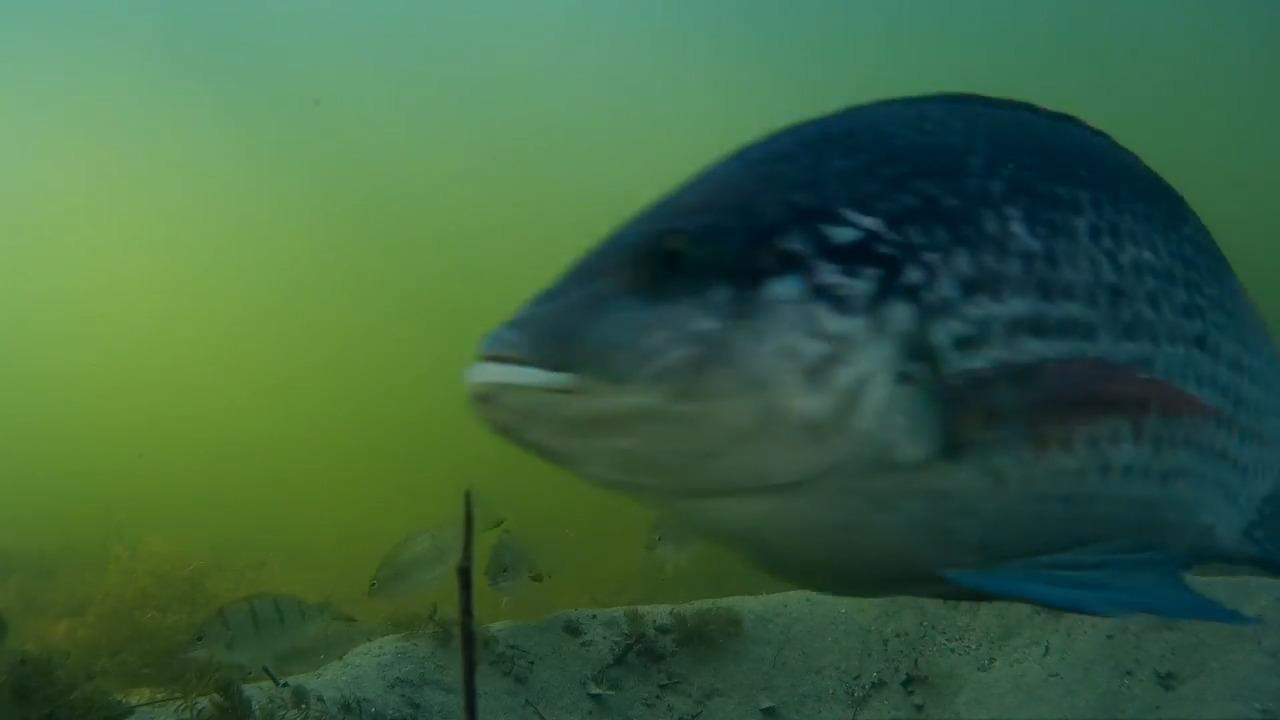Tilapia: (450, 58, 1278, 630), (159, 578, 360, 676), (365, 494, 456, 616), (479, 502, 556, 592), (619, 494, 714, 566)
